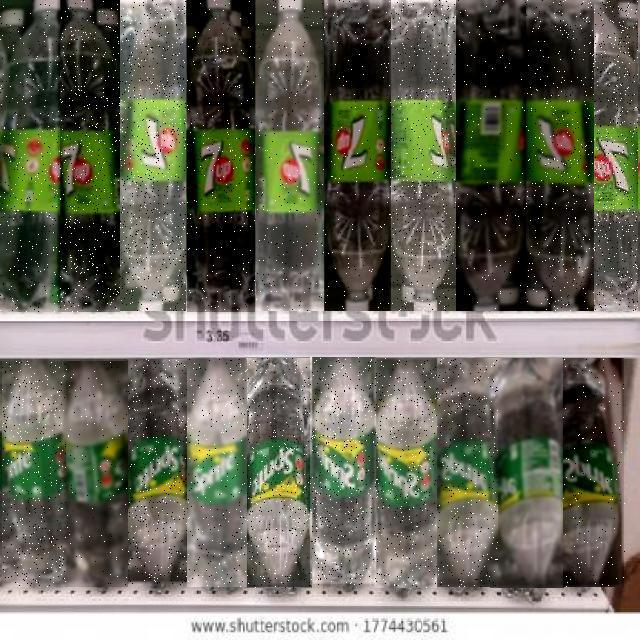Drinks: (523, 0, 594, 311), (456, 0, 526, 311), (187, 0, 255, 312), (323, 0, 391, 311), (256, 0, 324, 311), (390, 0, 456, 311), (120, 0, 186, 311), (58, 0, 120, 312), (0, 0, 60, 312), (490, 358, 564, 588), (246, 358, 312, 588), (310, 358, 376, 586), (374, 358, 437, 588), (64, 361, 128, 587), (2, 361, 66, 587), (593, 0, 639, 311), (564, 358, 626, 587), (437, 358, 499, 587), (187, 359, 247, 587), (127, 360, 187, 586)
